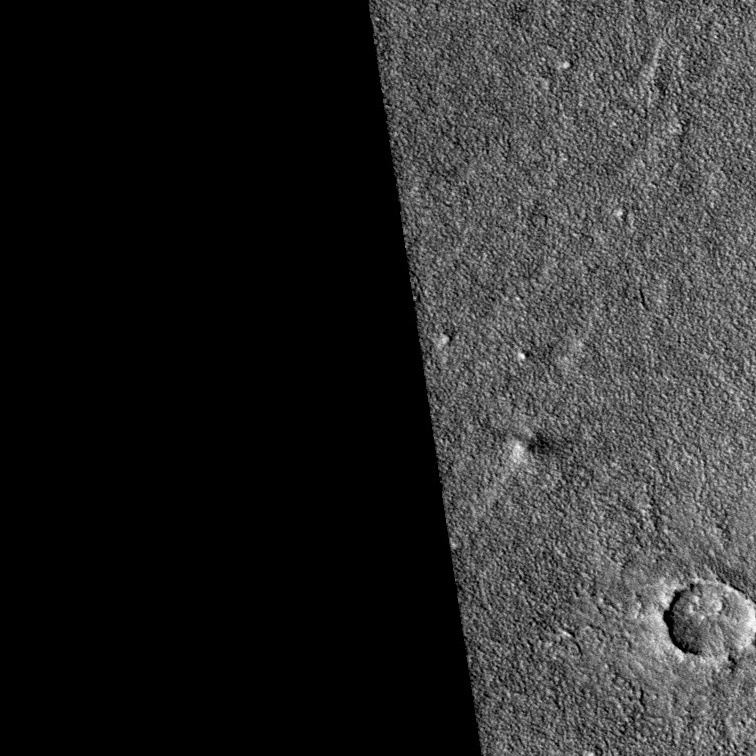dust_devil: (506, 432, 577, 470)
